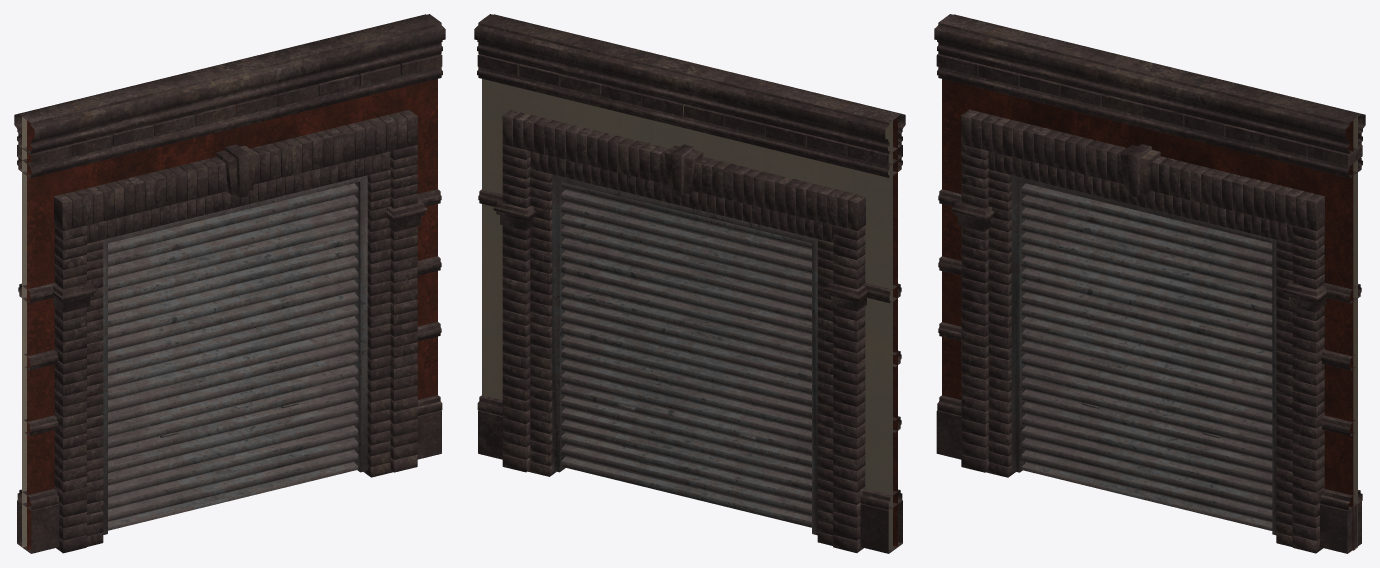
The model's file is SK2 GARAGE DOOR.fbx.
The picture shows the model from 3 angles, left to right: view 1: azimuth 30°, elevation 25°; view 2: azimuth 150°, elevation 25°; view 3: azimuth 330°, elevation 25°; orthographic projection.
Visible parts, largest first — view 1: SK2 GARAGE DOOR.001; view 2: SK2 GARAGE DOOR.001; view 3: SK2 GARAGE DOOR.001.
Boxes of the visible parts, bbox=[...] form: SK2 GARAGE DOOR.001: bbox=[14, 14, 445, 553]; SK2 GARAGE DOOR.001: bbox=[474, 14, 905, 553]; SK2 GARAGE DOOR.001: bbox=[934, 14, 1365, 553].
Bounding box in the file's own units: 400 × 406 × 51.14.
